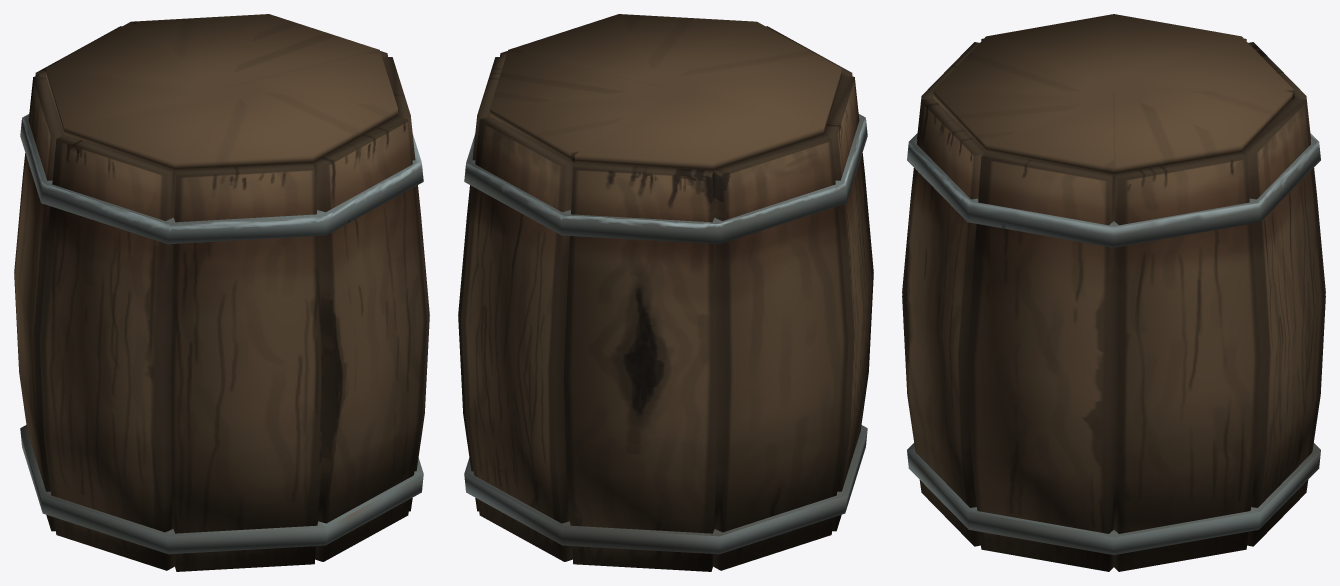
Rendered from barril.fbx.
The picture shows the model from 3 angles, left to right: view 1: azimuth 30°, elevation 25°; view 2: azimuth 150°, elevation 25°; view 3: azimuth 270°, elevation 25°; orthographic projection.
Parts seen in each view (by area): view 1: barril; view 2: barril; view 3: barril.
Boxes of the visible parts, x1=… form: barril: x1=14, y1=14, x2=429, y2=571; barril: x1=458, y1=14, x2=873, y2=571; barril: x1=902, y1=14, x2=1325, y2=571.
Bounding box in the file's own units: 235 × 245 × 235.
Materials: 1 (1 with a texture image).
